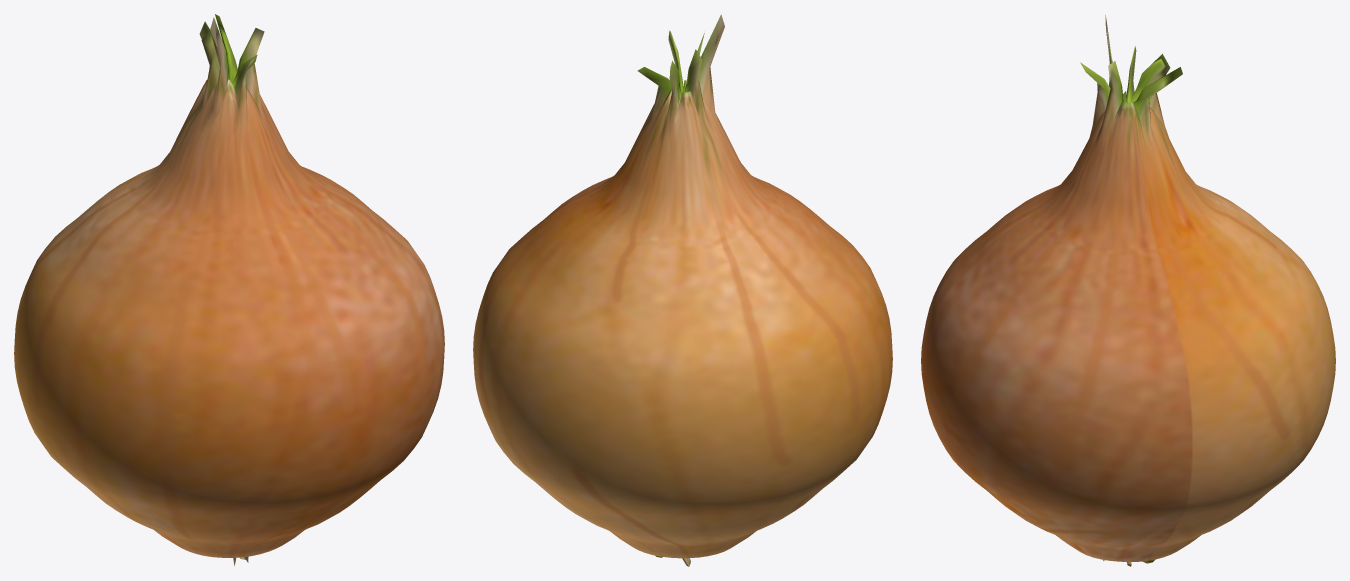
Rendered from Zwiebel.fbx.
3 renders of one model, left to right at view 1: azimuth 30°, elevation 25°; view 2: azimuth 150°, elevation 25°; view 3: azimuth 270°, elevation 25°, orthographic. The views are drawn at different scales.
Parts seen in each view (by area): view 1: pSphere1; view 2: pSphere1; view 3: pSphere1.
Part boxes in pixels (x1,y1,x2,y2): pSphere1: (14,14,444,565); pSphere1: (473,14,892,566); pSphere1: (921,15,1335,566).
Size of the model in its own units: 3.75 by 5.31 by 3.75.
1 material, 1 textured.
